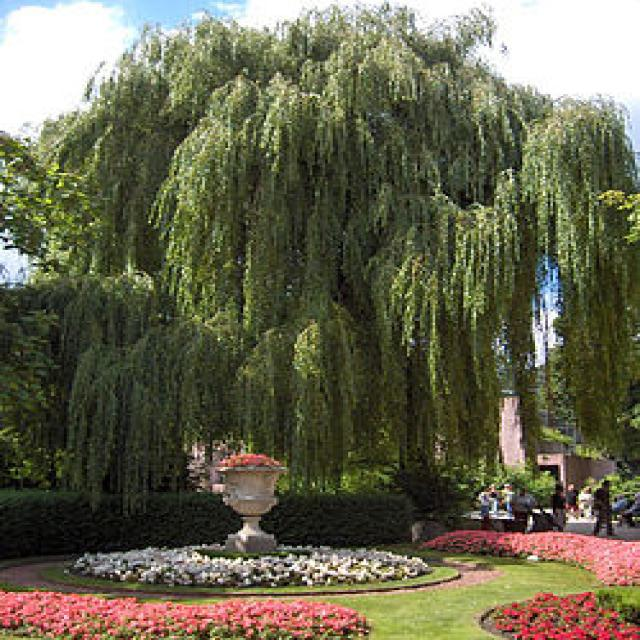cauce: (18, 11, 640, 533)
